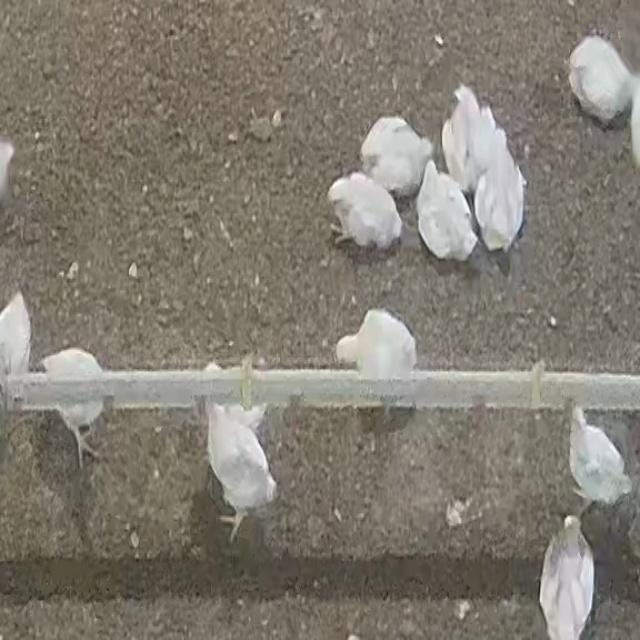chicken: (199, 370, 276, 542), (37, 347, 108, 467), (540, 515, 596, 639), (472, 127, 526, 255), (567, 406, 631, 510), (566, 31, 635, 127), (416, 160, 478, 262), (359, 116, 434, 199), (442, 86, 496, 195), (324, 177, 404, 249), (332, 310, 419, 374), (0, 290, 32, 391)
